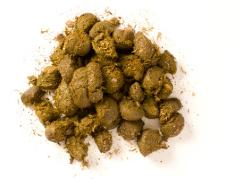organic: (16, 8, 196, 166), (64, 66, 110, 110), (138, 126, 168, 158)
